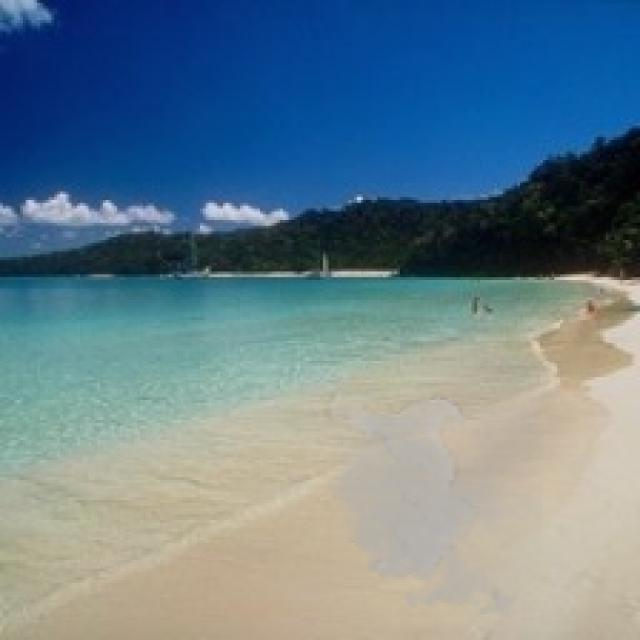Smoke: (317, 391, 543, 623)
